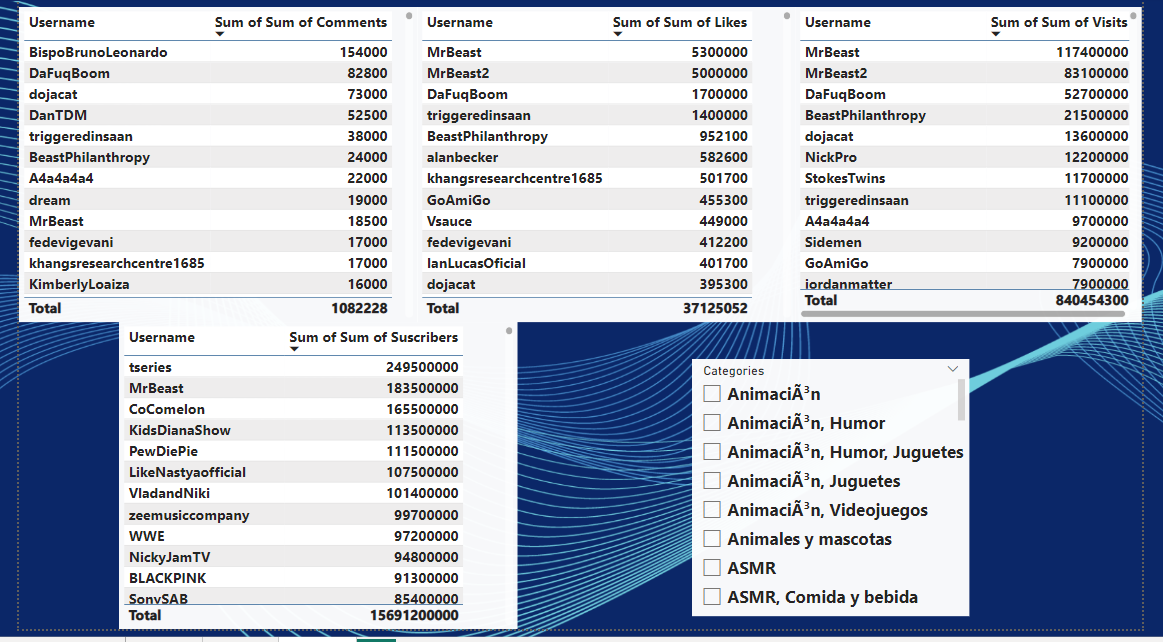

Layout of this report page (visuals, bound fields, positions):
{"tool":"powerbi","page":{"name":"Page 3","canvas":[1280,720],"ordinal":2},"visuals":[{"type":"tableEx","fields":{"Values":["Benchmarking.Username","Benchmarking.Sum of Comments"]},"box":[0,11.4,453.6,358.9],"z":0},{"type":"tableEx","fields":{"Values":["Benchmarking.Username","Benchmarking.Sum of Likes"]},"box":[453.6,11.4,430.9,358.9],"z":2},{"type":"tableEx","fields":{"Values":["Benchmarking.Username","Benchmarking.Sum of Visits"]},"box":[884.5,11.4,395.5,358.9],"z":3},{"type":"tableEx","fields":{"Values":["Benchmarking.Username","Benchmarking.Sum of Suscribers"]},"box":[113.7,370.2,453.6,350],"z":4},{"type":"slicer","fields":{"Values":["Benchmarking.Categories"]},"box":[767,411.9,315.9,293.1],"z":5}]}

Visuals, with their boxes in screenshot pixels (x1, y1, x2, y2), scaled from the page's 1280x720 canvas onto the 1163x642 screenshot:
tableEx - Benchmarking.Username x Benchmarking.Sum of Comments: [x1=0, y1=10, x2=412, y2=330]
tableEx - Benchmarking.Username x Benchmarking.Sum of Likes: [x1=412, y1=10, x2=804, y2=330]
tableEx - Benchmarking.Username x Benchmarking.Sum of Visits: [x1=804, y1=10, x2=1162, y2=330]
tableEx - Benchmarking.Username x Benchmarking.Sum of Suscribers: [x1=103, y1=330, x2=515, y2=641]
slicer - Benchmarking.Categories: [x1=697, y1=367, x2=984, y2=629]
